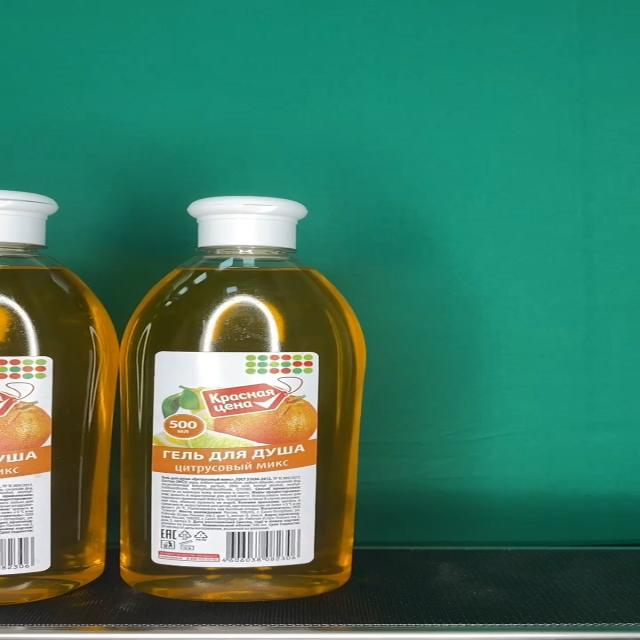Bottle: (116, 194, 366, 602)
Cap: (185, 195, 306, 248)
